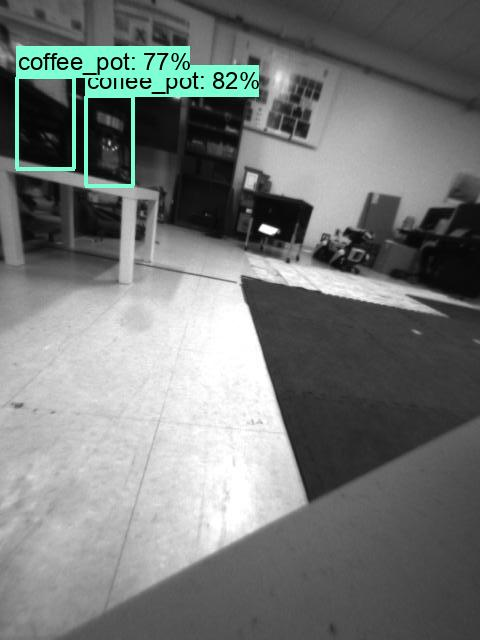coffee_pot: (85, 98, 134, 185)
